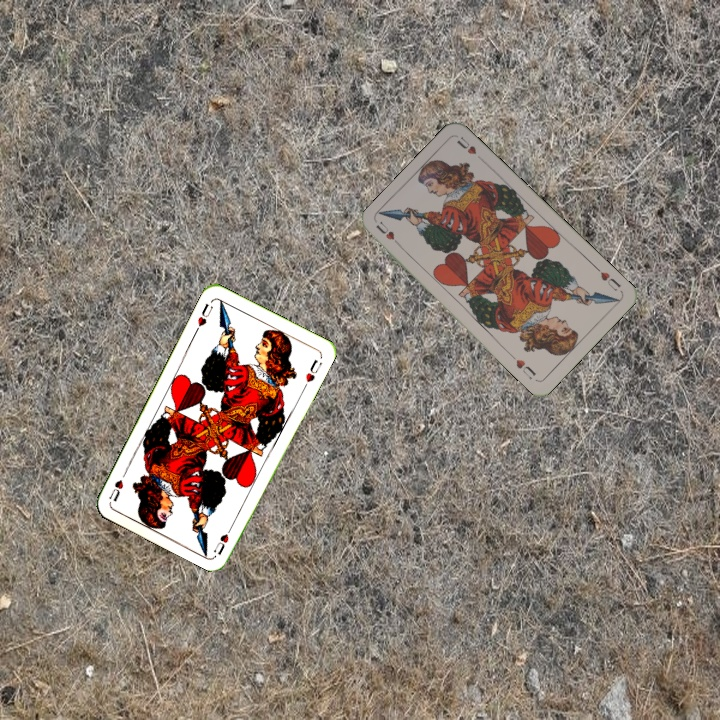HU: (372, 217, 405, 251), (591, 263, 624, 294), (210, 519, 236, 558), (191, 299, 216, 335)
